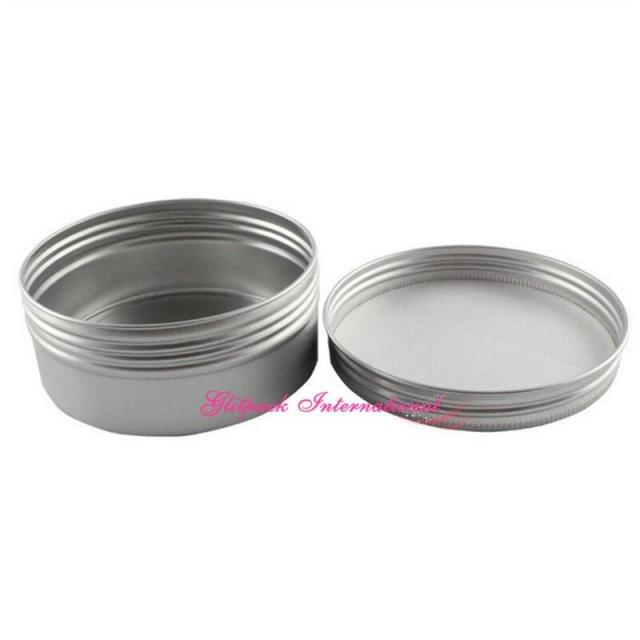metel: (7, 193, 327, 464), (327, 228, 636, 454)
